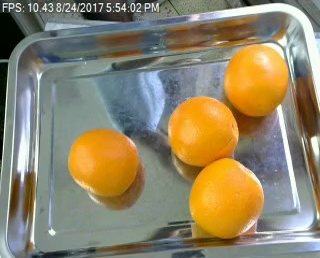Orange: (189, 158, 265, 238), (67, 127, 138, 198), (167, 97, 240, 165), (223, 44, 288, 117)
